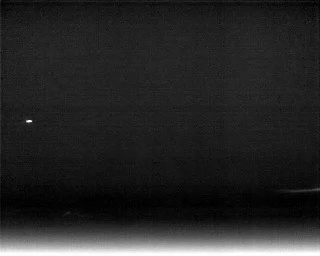AIRPLANE: (24, 117, 34, 125)
